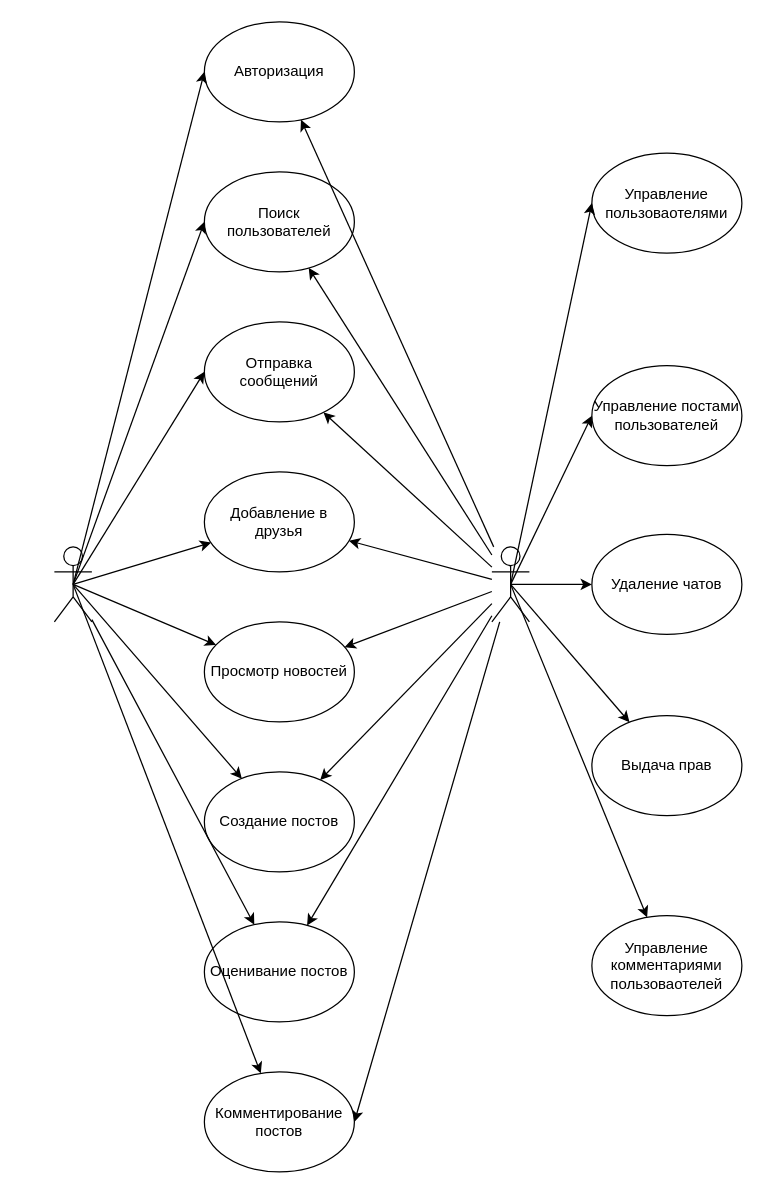
Image size: 764x1194. Some labels were removed from this diagram. The shapes that lost their labels are listed below. From the top down, each one's centre as x and y in pixels, then its label:
At point 72,584: "Польщователь".
At point 510,584: "Администратор".
